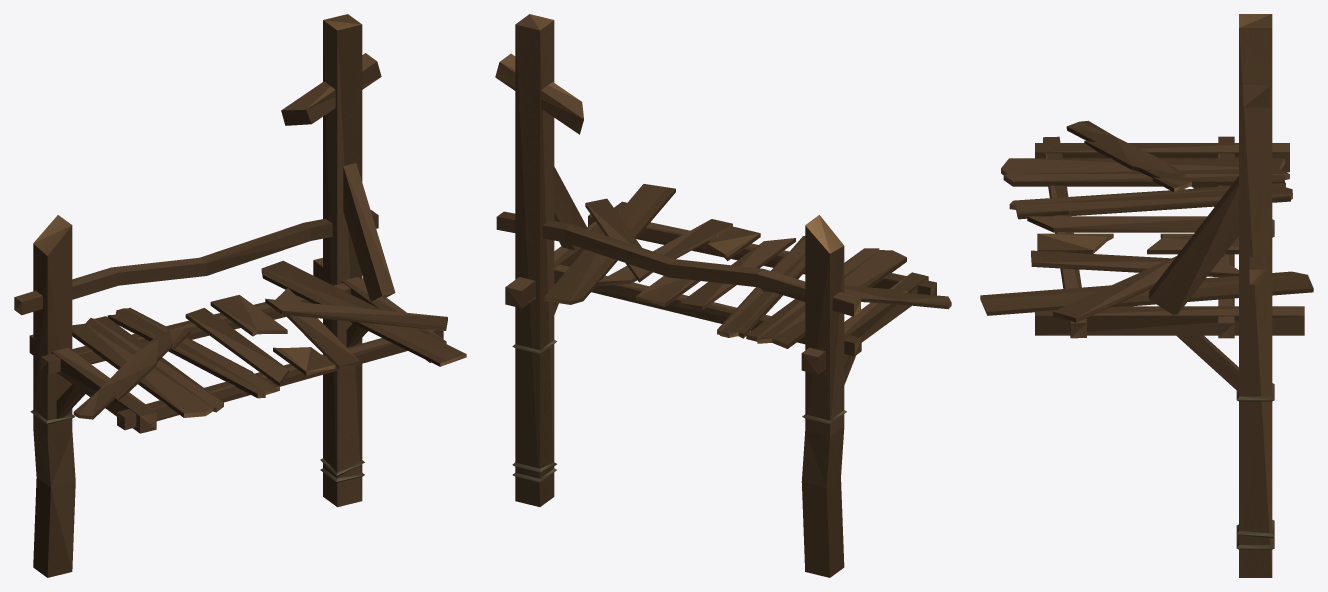
Rendered from Wood_11.fbx.
3 views of the same model, side by side, from view 1: azimuth 30°, elevation 25°; view 2: azimuth 150°, elevation 25°; view 3: azimuth 270°, elevation 25° (orthographic). The views are drawn at different scales.
Parts seen in each view (by area): view 1: polySurface1103; view 2: polySurface1103; view 3: polySurface1103.
Part boxes in pixels (x1,y1,x2,y2): polySurface1103: [14, 14, 466, 577]; polySurface1103: [495, 14, 951, 577]; polySurface1103: [980, 14, 1313, 577].
Size of the model in its own units: 906 by 1100 by 604.
1 material, 1 textured.
